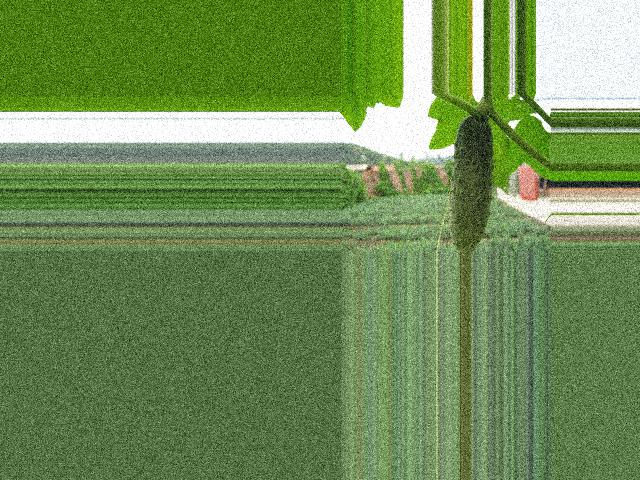cucumber: (449, 116, 493, 253)
